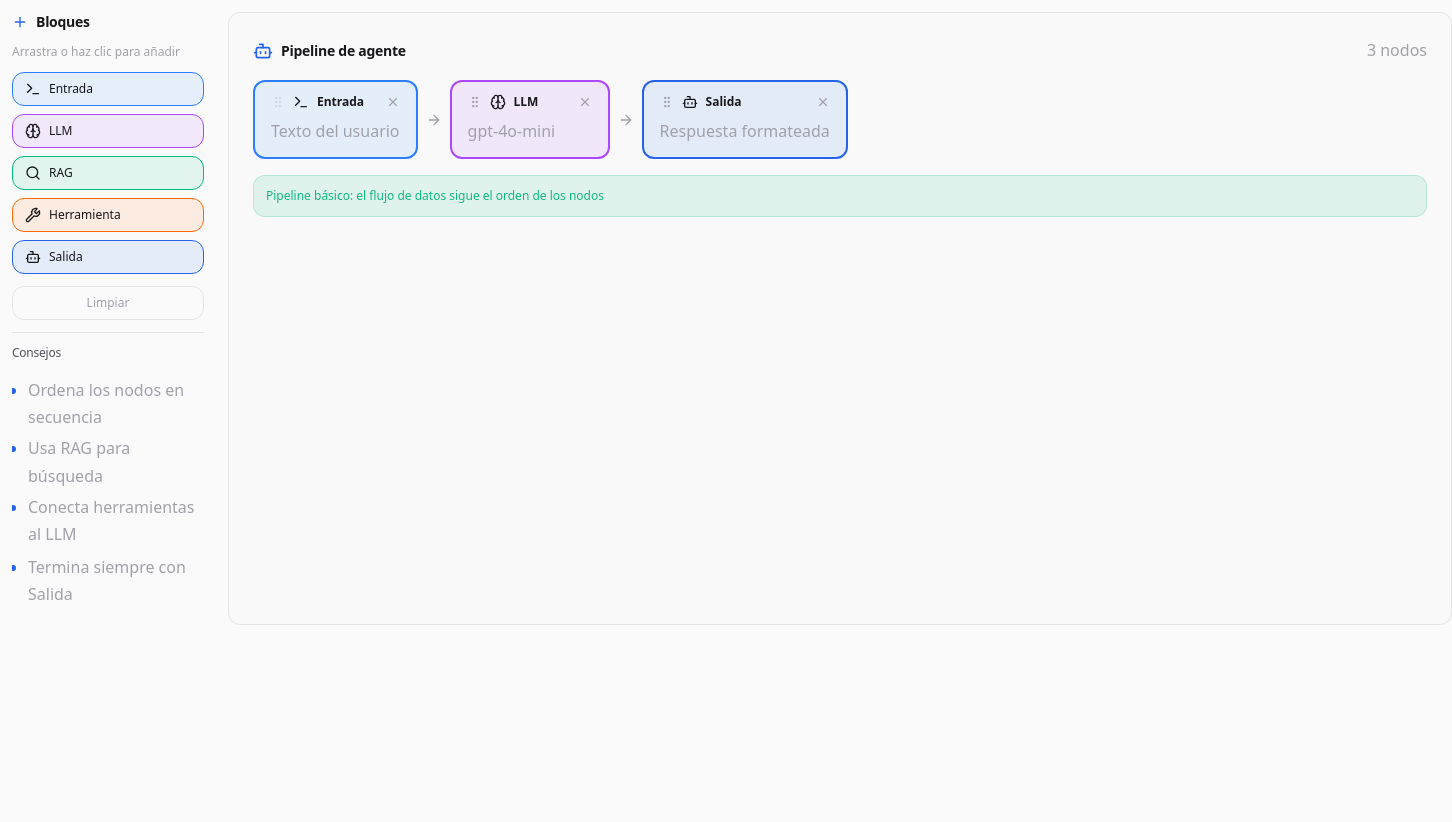
it: AgentFlow › añade un nodo RAG y detecta el pipeline RAG
The image size is (1452, 822).
Click the button "RAG": (108, 173) [12, 156, 204, 190]
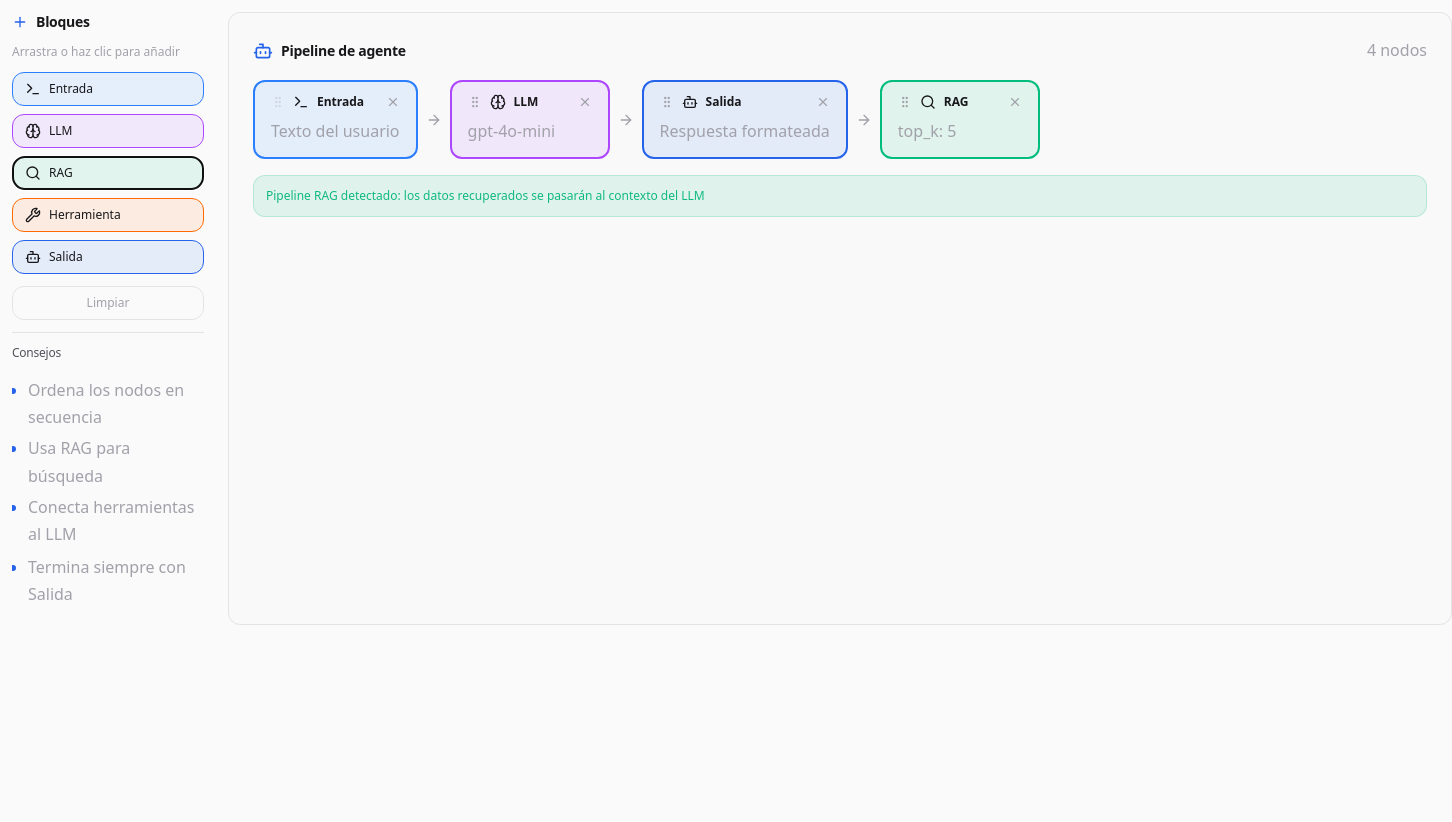
Check: the text "4 nodos" is shown, box [1367, 37, 1427, 64]
Check: the button "top_k: 5" is shown, box [898, 118, 1022, 145]
Check: the text "Pipeline RAG detectado: los datos recuperados se pasarán al contexto del LLM" is shown, box [266, 187, 705, 204]
